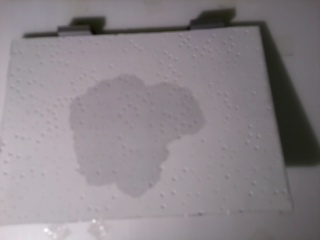Water_detected: (84, 86, 184, 183)
